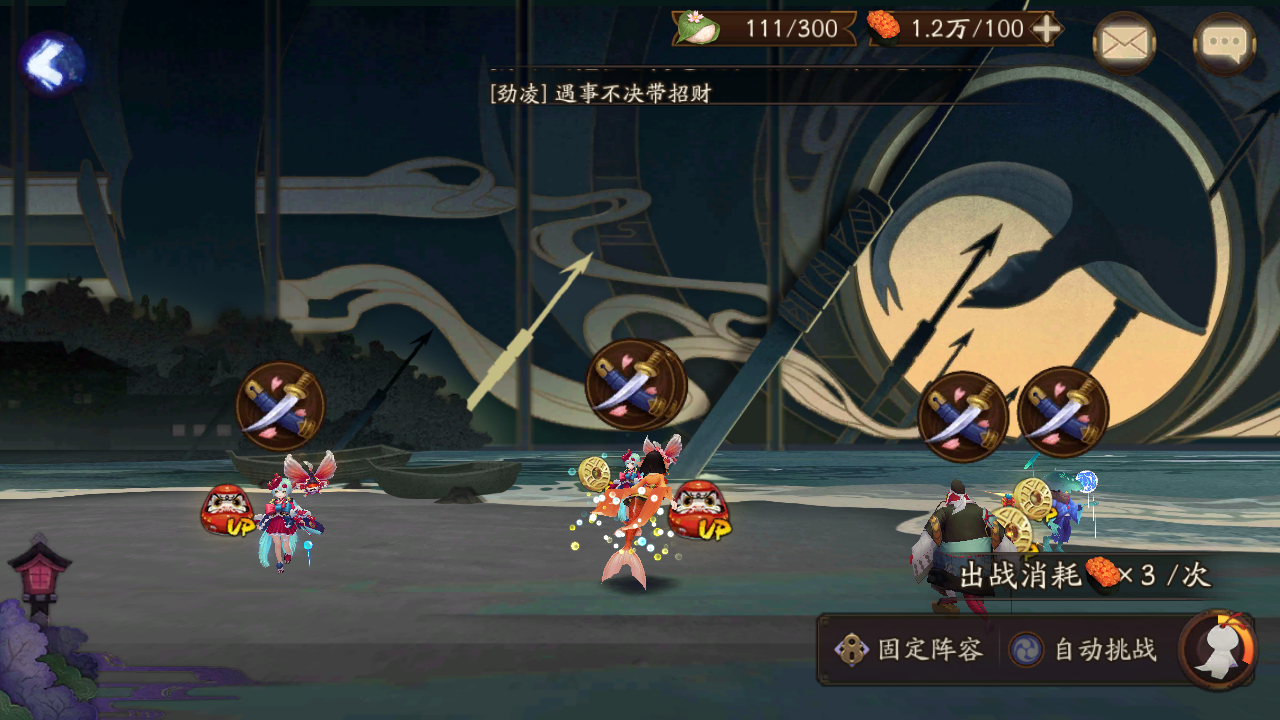material: (667, 479, 736, 546), (195, 481, 261, 540)
money: (973, 505, 1040, 564), (1013, 477, 1057, 523), (573, 455, 615, 496)
